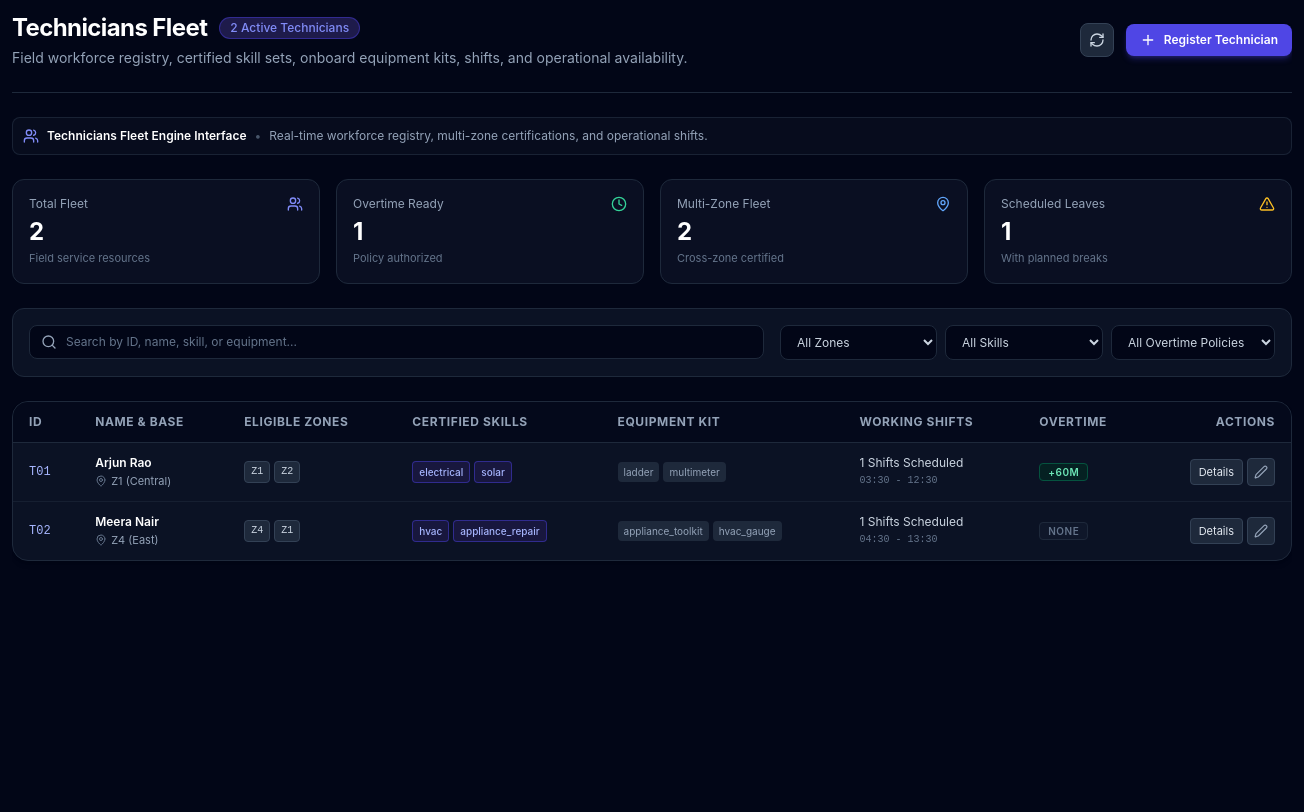
Scenario: TechniciansPage Component › filters technicians using zone filter dropdown
Check: the text "Arjun Rao" is shown, box x1=95 y1=454 x2=152 y2=470
Step 1. Select "Zone Z4 (East)" in the dropdown named "Filter by Zone" → (858, 342), box x1=780 y1=324 x2=937 y2=360
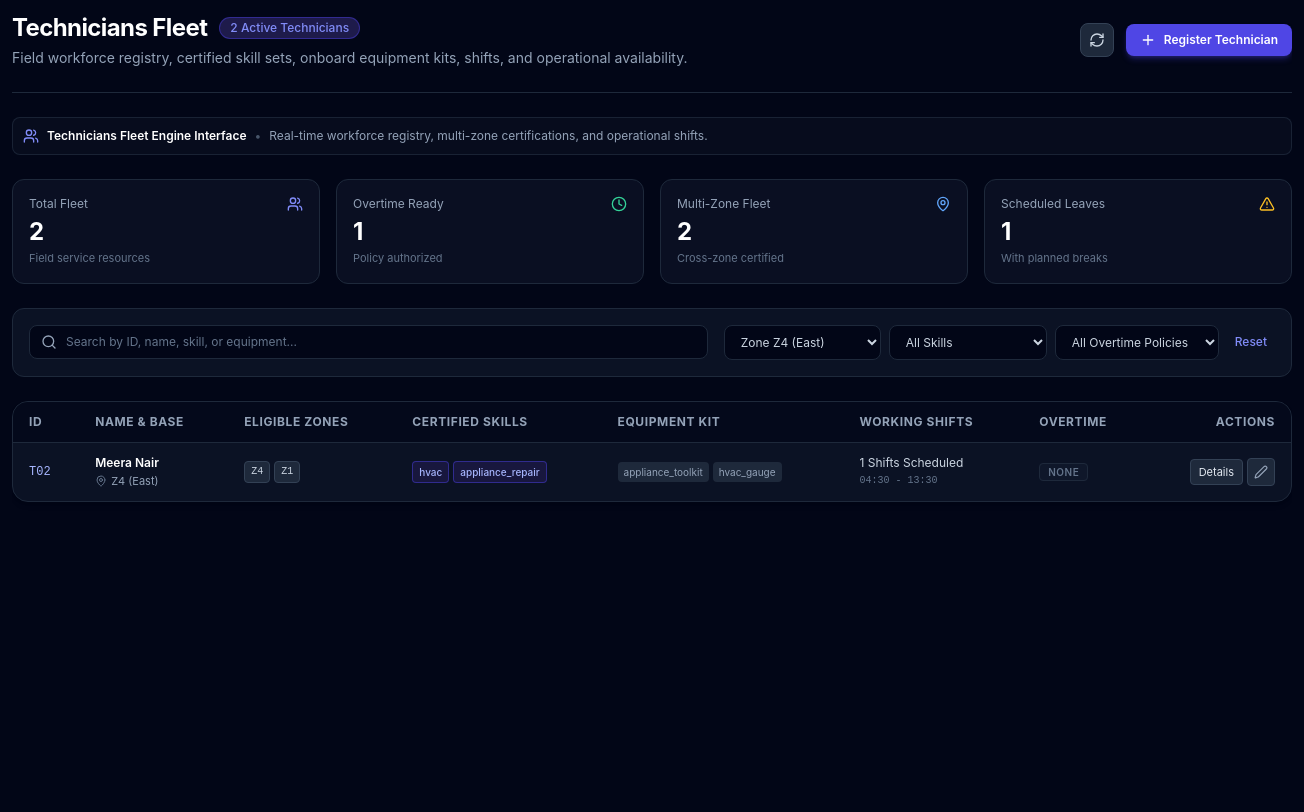
Check: the text "Meera Nair" is shown, box x1=95 y1=454 x2=159 y2=470
Check: the text "Arjun Rao" is gone
